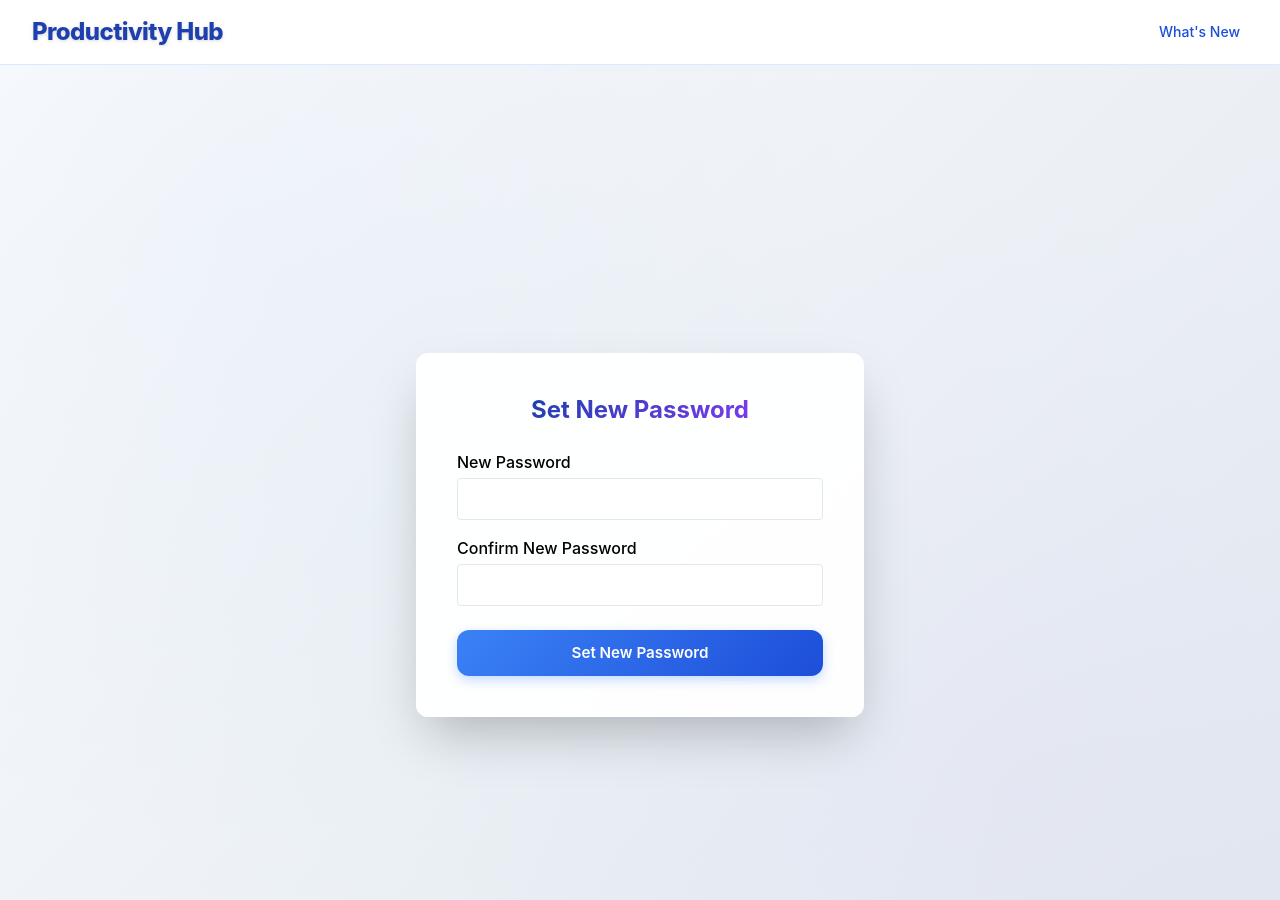
Scenario: PasswordResetConfirmPage › Error State Handling › displays server error message on API failure
The width and height of the screenshot is (1280, 900).
In the password field labelled "New Password": (640, 499) [457,478,823,520], type "newpassword123"
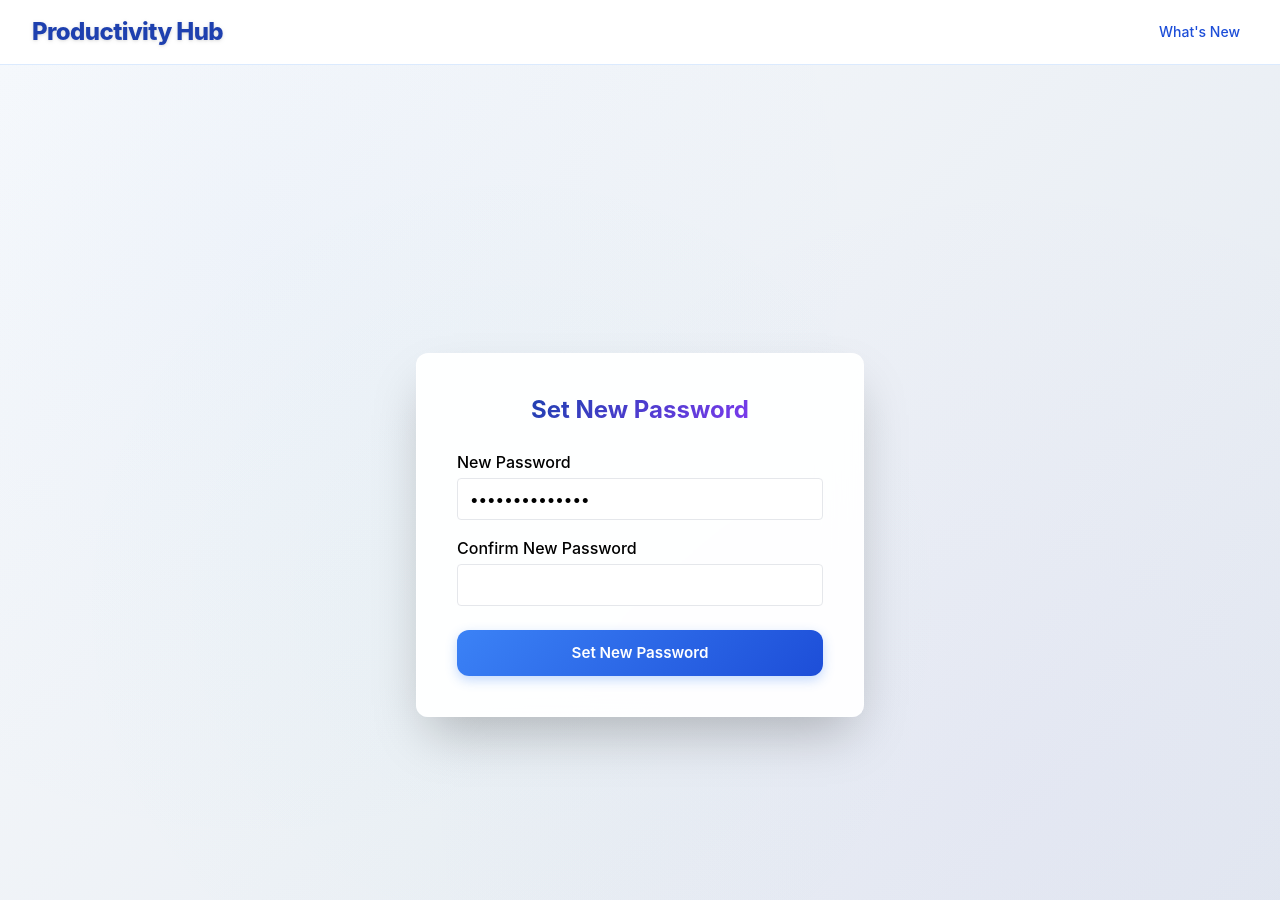
In the password field labelled "Confirm New Password": (640, 585) [457,564,823,606], type "newpassword123"
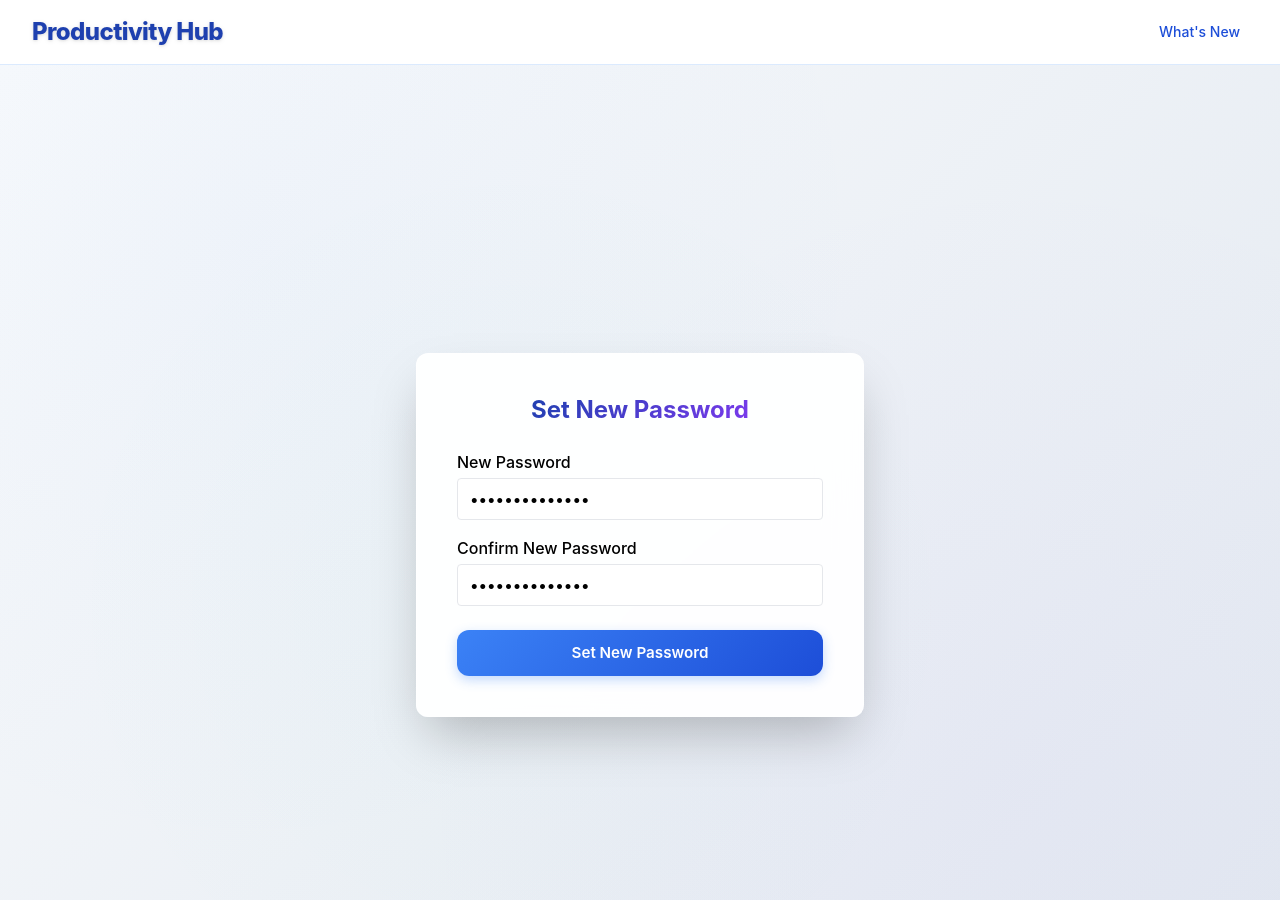
Click the button "Set New Password": (640, 653) [457,630,823,676]
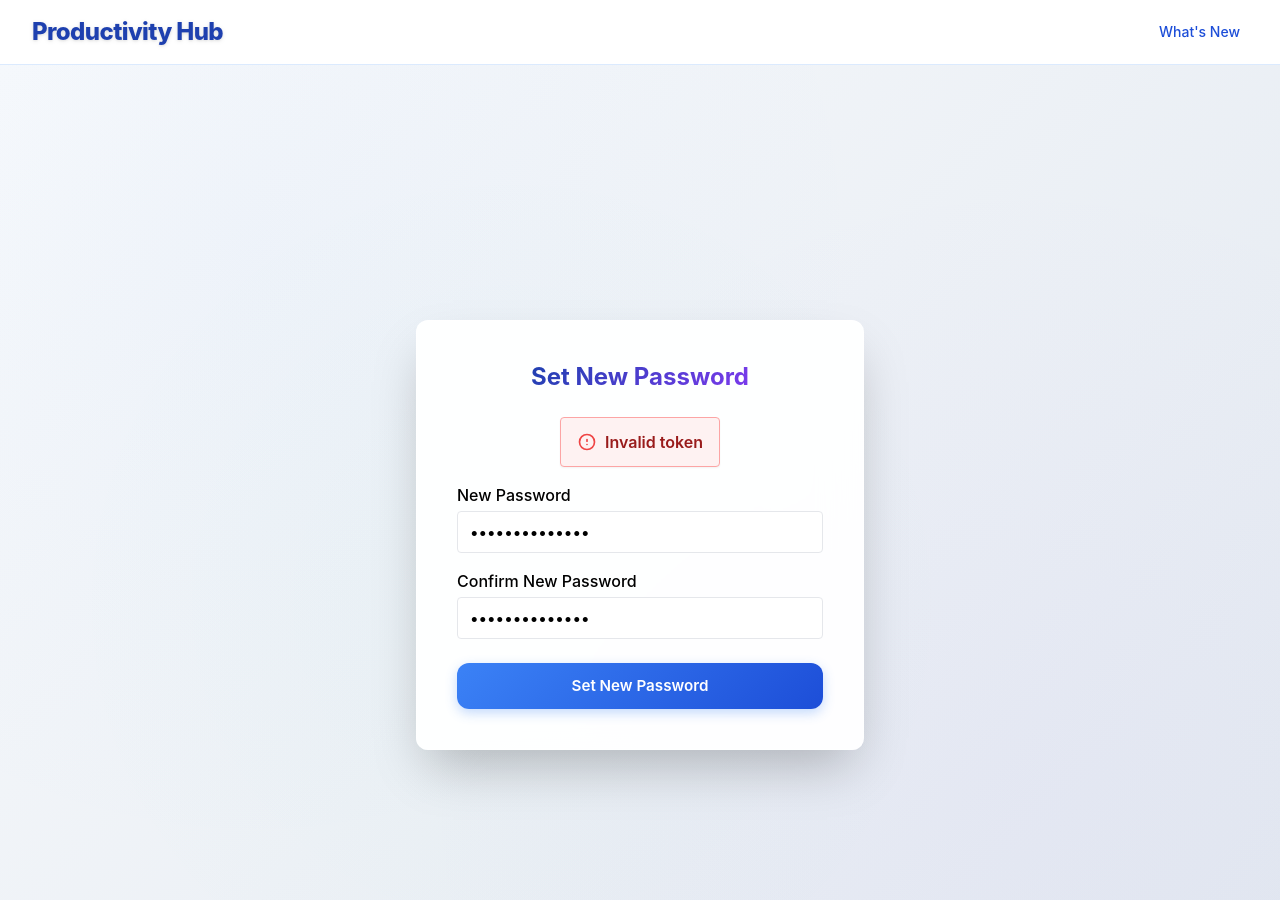
Check: the text "Invalid token" is shown, box [605,430,703,454]
